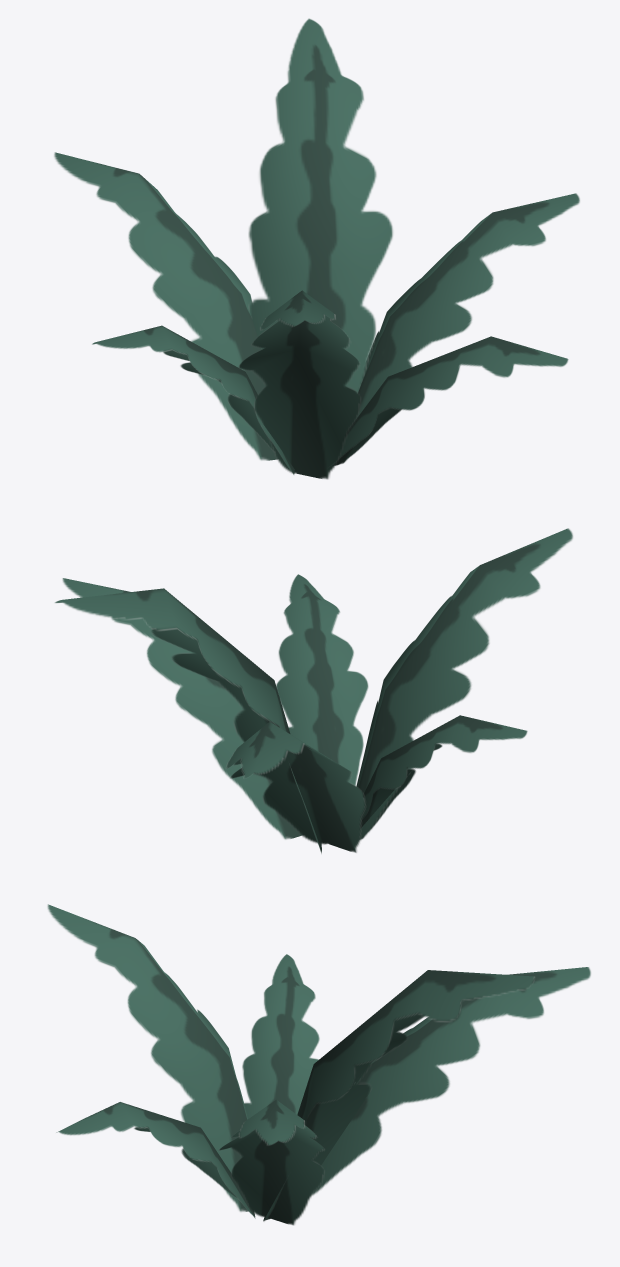
The model's file is env_plant4_painty_01_v1.glb.
3 renders of one model, top to bottom at view 1: azimuth 30°, elevation 25°; view 2: azimuth 150°, elevation 25°; view 3: azimuth 270°, elevation 25°, orthographic. The views are drawn at different scales.
Parts seen in each view (by area): view 1: grass_plane.008; view 2: grass_plane.008; view 3: grass_plane.008.
Part boxes in pixels (x1,y1,x2,y2): grass_plane.008: (54, 18, 579, 479); grass_plane.008: (54, 528, 573, 853); grass_plane.008: (47, 904, 591, 1225).
Size of the model in its own units: 1.41 by 0.8902 by 1.56.
Materials: 1 (1 with a texture image).
